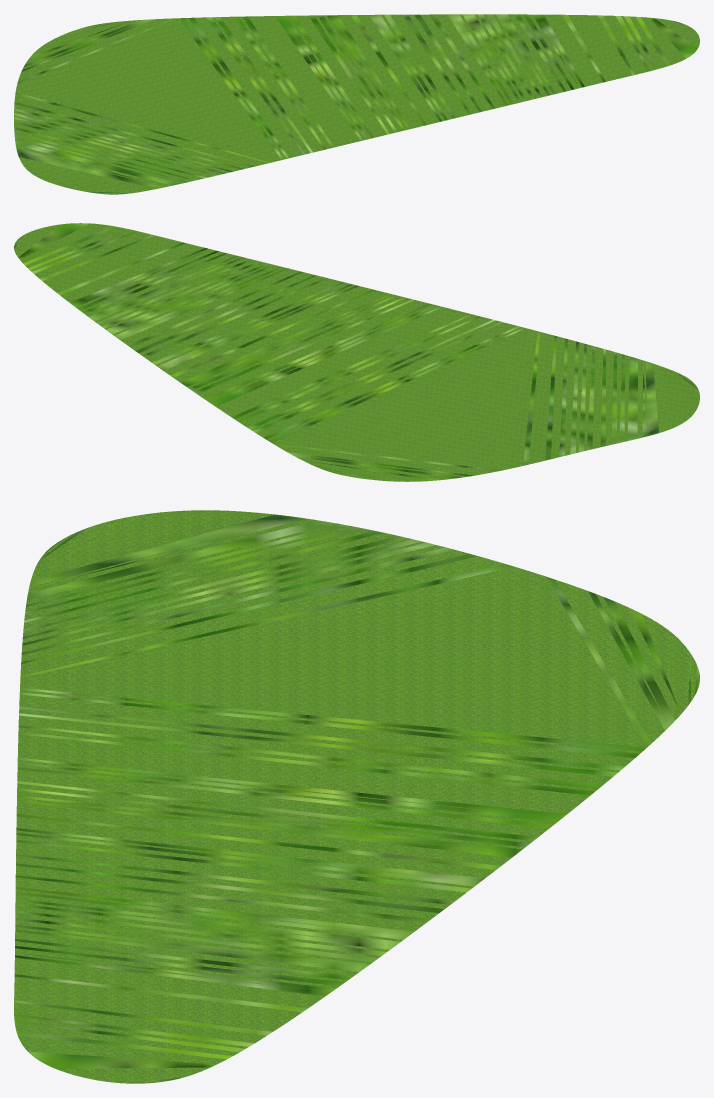
The model's file is disp_ground.obj.
3 views of the same model, one above another, from view 1: azimuth 30°, elevation 25°; view 2: azimuth 150°, elevation 25°; view 3: azimuth 270°, elevation 25° (orthographic). The views are drawn at different scales.
Parts seen in each view (by area): view 1: disp_ground_Plane.008; view 2: disp_ground_Plane.008; view 3: disp_ground_Plane.008.
Boxes of the visible parts, bbox=[...] form: disp_ground_Plane.008: bbox=[14, 14, 699, 194]; disp_ground_Plane.008: bbox=[14, 223, 699, 481]; disp_ground_Plane.008: bbox=[14, 510, 699, 1083].
Size of the model in its own units: 489 by 2.86 by 246.
Materials: 1 (1 with a texture image).
